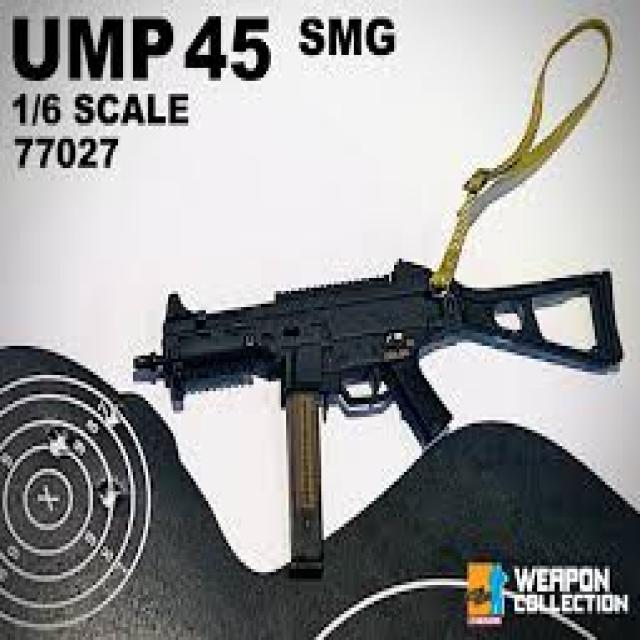Gun: (125, 239, 640, 569)
